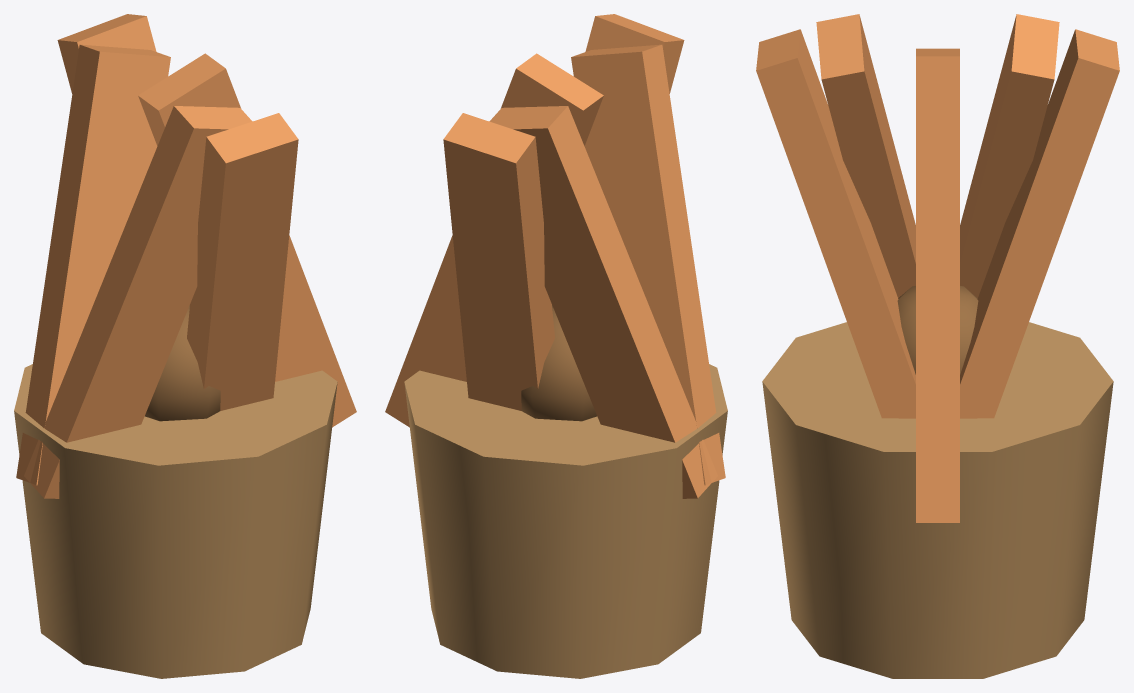
Rendered from healing_plant.glb.
3 renders of one model, left to right at view 1: azimuth 30°, elevation 25°; view 2: azimuth 150°, elevation 25°; view 3: azimuth 270°, elevation 25°, orthographic. The views are drawn at different scales.
Visible parts, largest first — view 1: healing_plant; view 2: healing_plant; view 3: healing_plant.
Part boxes in pixels (x1,y1,x2,y2): healing_plant: (14, 14, 356, 678); healing_plant: (385, 14, 727, 678); healing_plant: (756, 14, 1119, 678).
Bounding box in the file's own units: 13.25 × 22.08 × 12.43.
